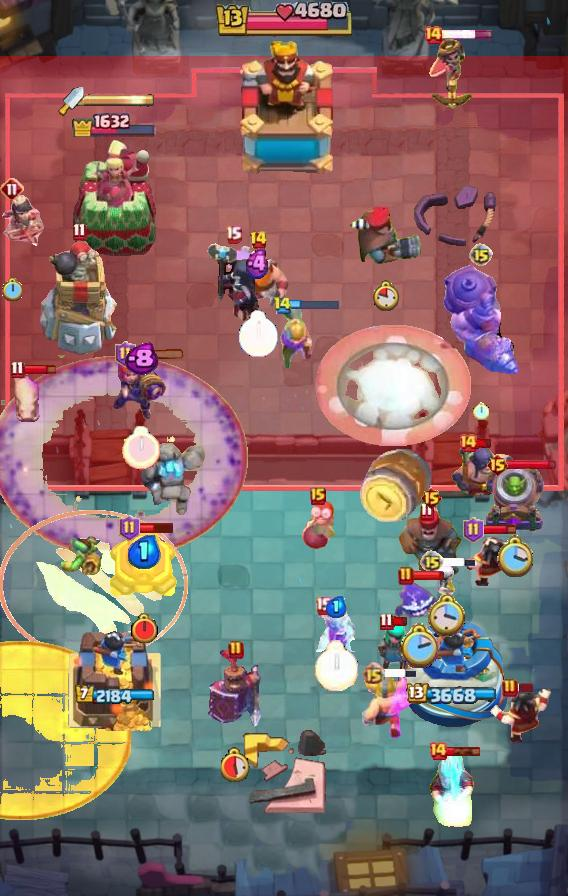bar: (506, 458, 557, 471), (289, 299, 341, 311), (441, 29, 494, 40), (134, 349, 186, 360), (138, 521, 175, 534), (482, 523, 517, 536), (22, 363, 57, 376), (382, 667, 418, 679), (441, 556, 477, 568), (446, 746, 481, 757), (411, 570, 445, 581), (515, 682, 535, 693), (392, 616, 409, 627), (476, 438, 493, 449)
bar-level: (420, 550, 444, 574), (469, 243, 493, 267), (0, 177, 24, 201), (420, 486, 443, 510), (486, 453, 509, 477), (463, 517, 484, 543), (119, 515, 140, 541), (115, 341, 136, 367), (362, 662, 385, 685), (428, 741, 448, 761), (458, 433, 478, 453), (423, 25, 443, 45), (249, 230, 268, 250), (273, 296, 292, 315), (315, 596, 332, 615), (225, 225, 242, 244), (502, 678, 518, 698), (228, 640, 244, 660), (398, 566, 414, 586), (310, 487, 326, 505), (379, 612, 394, 631), (10, 360, 25, 379), (72, 222, 87, 241)
bomber: (300, 500, 336, 552)
clock: (314, 640, 358, 691), (238, 310, 279, 358), (399, 623, 438, 668), (122, 426, 160, 470), (428, 595, 466, 638), (496, 535, 533, 579), (221, 747, 251, 782), (130, 613, 159, 645), (373, 280, 400, 311), (2, 278, 22, 301), (473, 402, 489, 420)
dagger-duchess-tower: (70, 138, 158, 256)
dagger-duchess-tower-bar: (84, 93, 156, 107)
electro-spirit: (395, 580, 441, 624)
electro-wizard: (489, 686, 555, 744), (463, 535, 515, 589)
elite-barbarian: (361, 673, 412, 739)
elixir: (124, 342, 158, 376), (128, 535, 161, 569), (243, 248, 273, 280), (326, 596, 347, 618)
executioner: (450, 441, 516, 499)
firecracker-evolution: (113, 350, 169, 422)
golemite: (135, 440, 209, 522)
hog: (10, 372, 42, 424)
hunter: (397, 500, 465, 578), (348, 206, 424, 266)
ice-wizard: (426, 752, 476, 828)
king-tower: (228, 41, 340, 181)
king-tower-bar: (213, 2, 355, 40)
little-prince: (427, 35, 473, 115), (315, 602, 357, 652)
lumberjack: (226, 244, 290, 308)
mortar-evolution: (482, 464, 546, 534)
musketeer: (276, 304, 316, 368)
night-witch: (205, 241, 261, 323)
princess: (0, 195, 46, 253)
queen-tower: (394, 614, 513, 731), (66, 621, 162, 731)
rascal-girl: (375, 620, 421, 670)
skeleton: (434, 564, 460, 598)
spear-goblin: (56, 534, 104, 576)
tower-bar: (71, 110, 158, 137), (407, 683, 499, 706), (74, 685, 154, 706)
